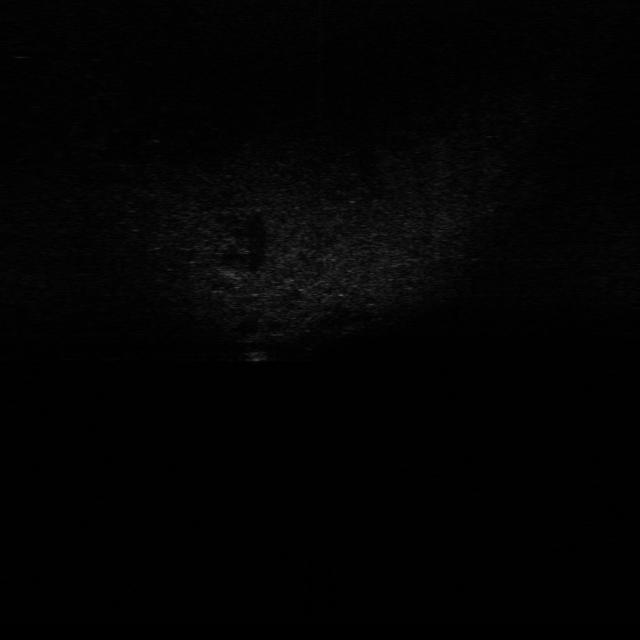cube: (240, 344, 274, 368)
